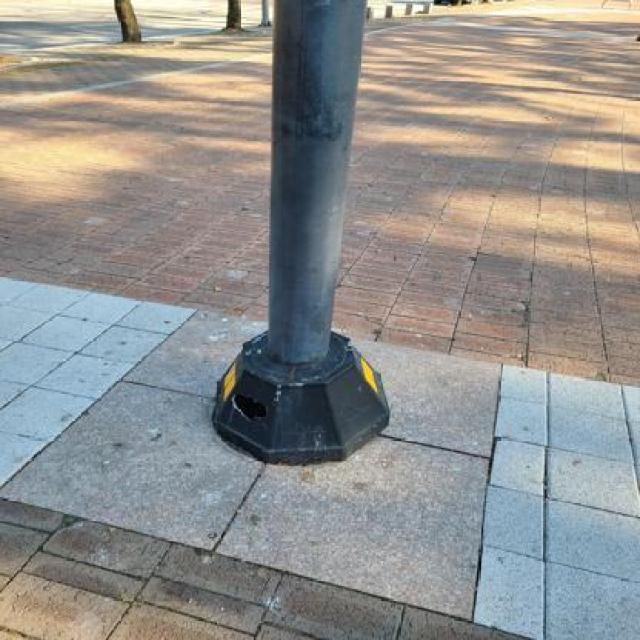pole: (198, 0, 400, 474)
